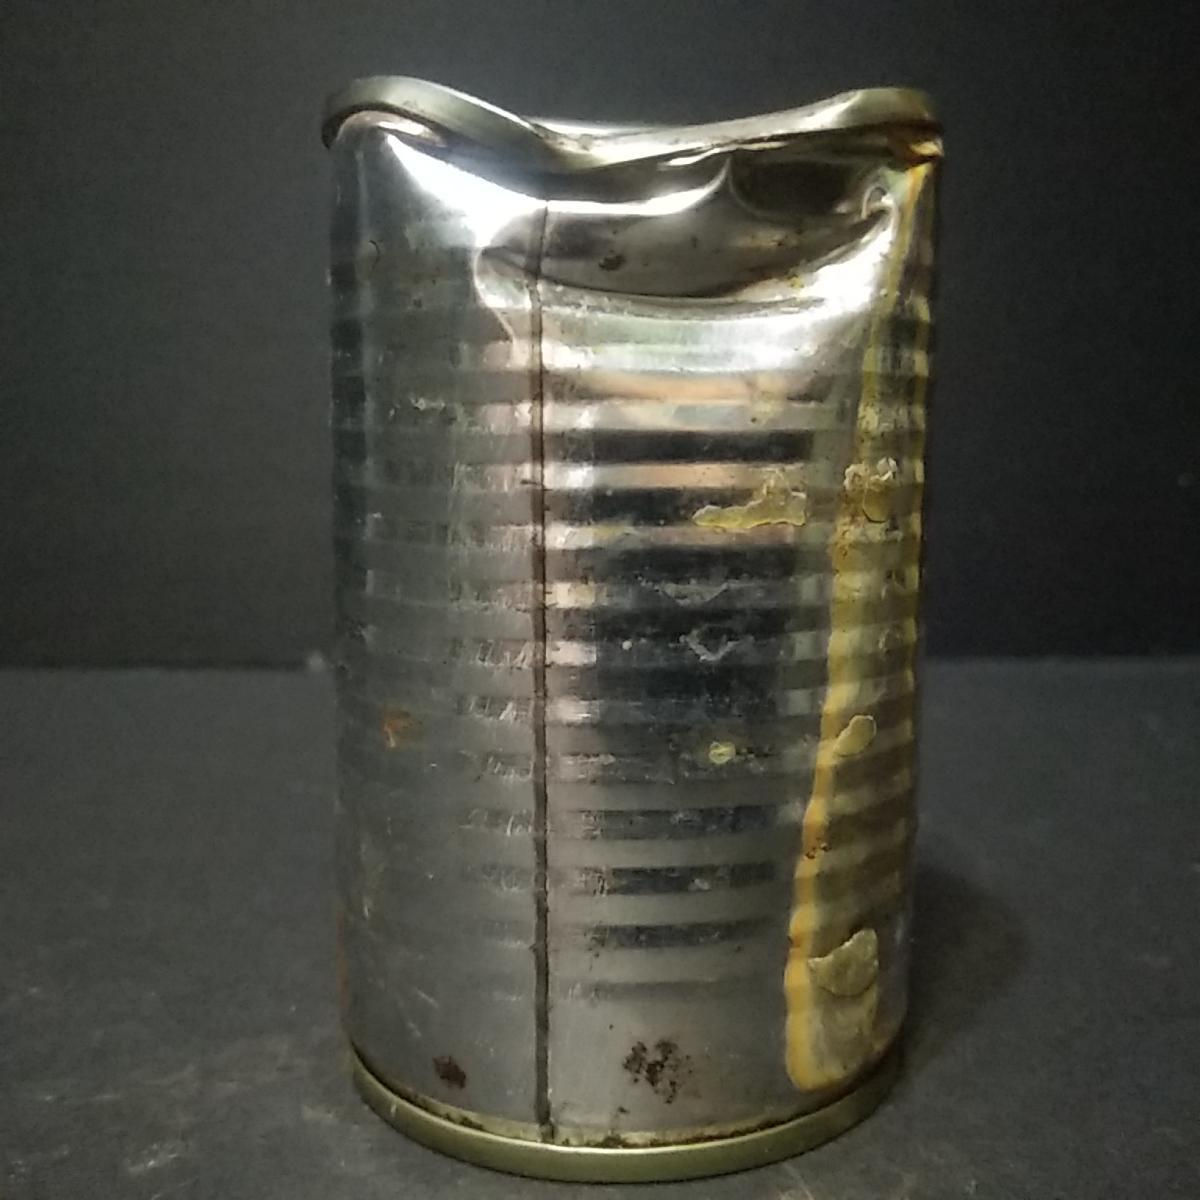Dented: (304, 48, 964, 1186)
